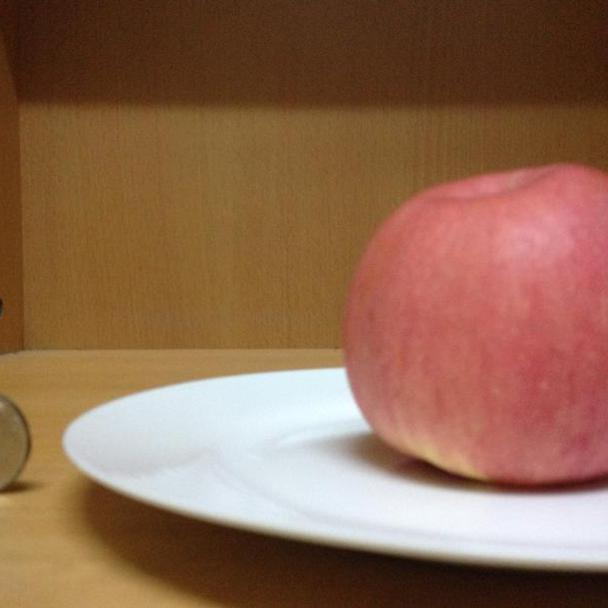apple: (342, 161, 608, 485)
